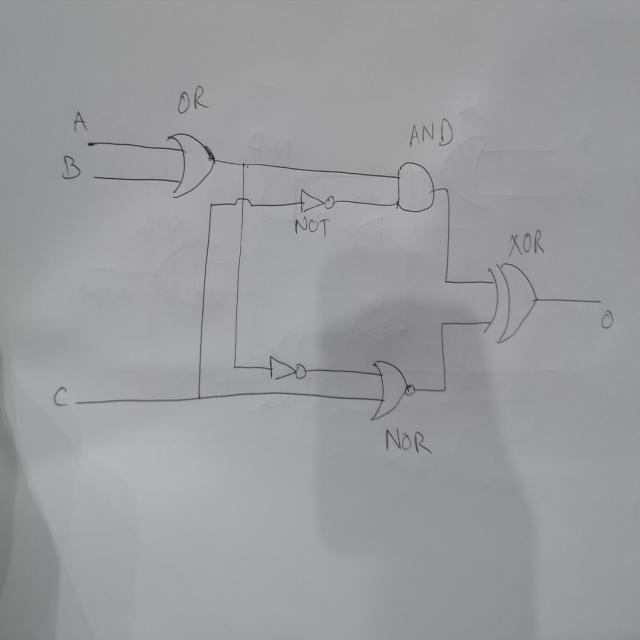crossover: (233, 194, 252, 208)
junction: (440, 382, 449, 395), (442, 274, 450, 286), (443, 184, 451, 195), (439, 318, 446, 330), (195, 391, 202, 402), (208, 199, 214, 211), (240, 159, 247, 169), (231, 362, 238, 372)
terminal: (84, 136, 93, 151), (594, 294, 604, 307), (90, 172, 97, 181), (73, 398, 79, 407)
text: (383, 424, 433, 457), (408, 117, 455, 149), (176, 83, 211, 115), (509, 228, 547, 257), (294, 214, 330, 239), (60, 150, 82, 180), (72, 109, 89, 137), (52, 382, 70, 408), (599, 308, 614, 332)
